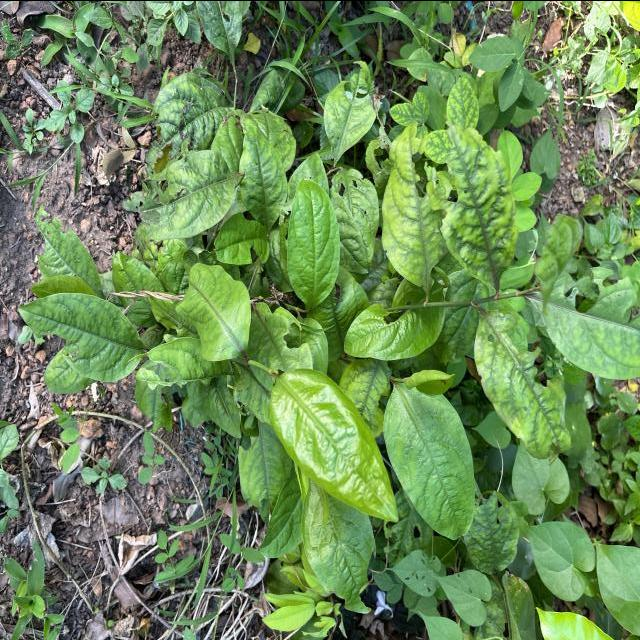Plumbago indica: (267, 364, 400, 528), (470, 308, 574, 462), (382, 381, 478, 540), (436, 124, 520, 286), (15, 290, 148, 382), (174, 257, 254, 362), (286, 176, 344, 307)
